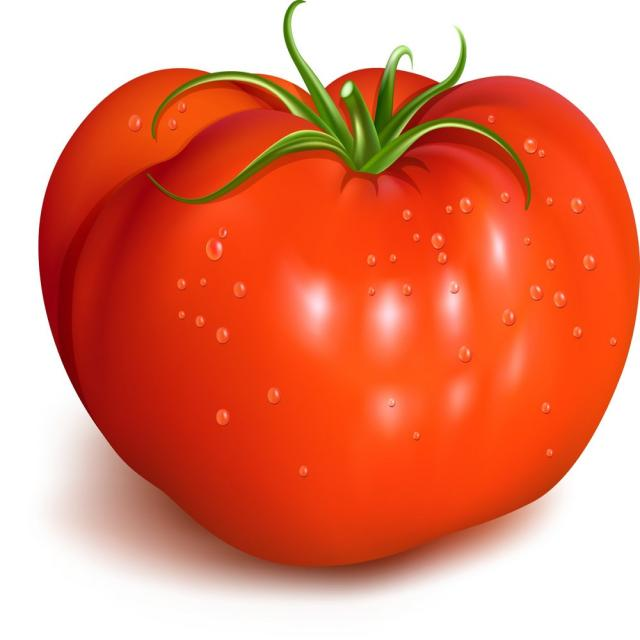kirmizi: (35, 34, 640, 554)
